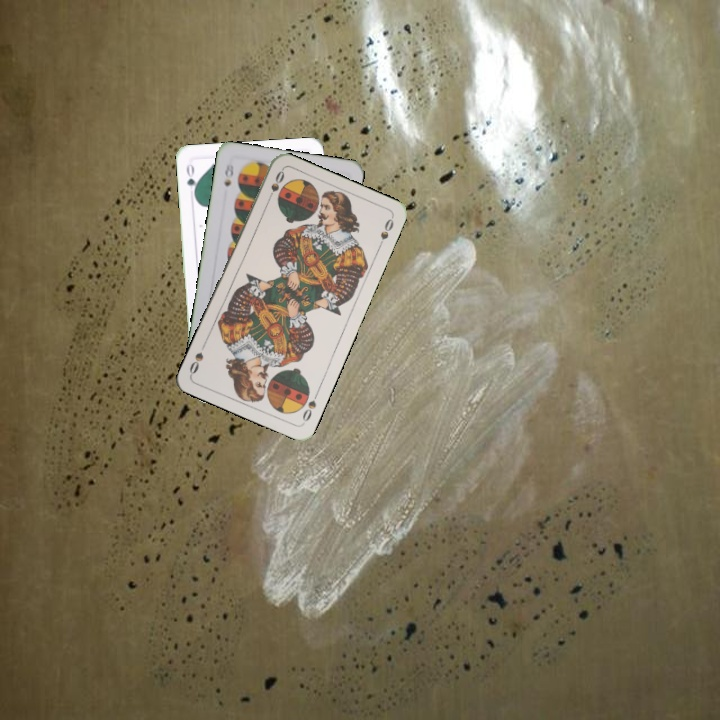GO: (182, 160, 200, 200)
S8: (220, 160, 236, 189)
SO: (263, 167, 287, 205), (298, 387, 321, 426)
